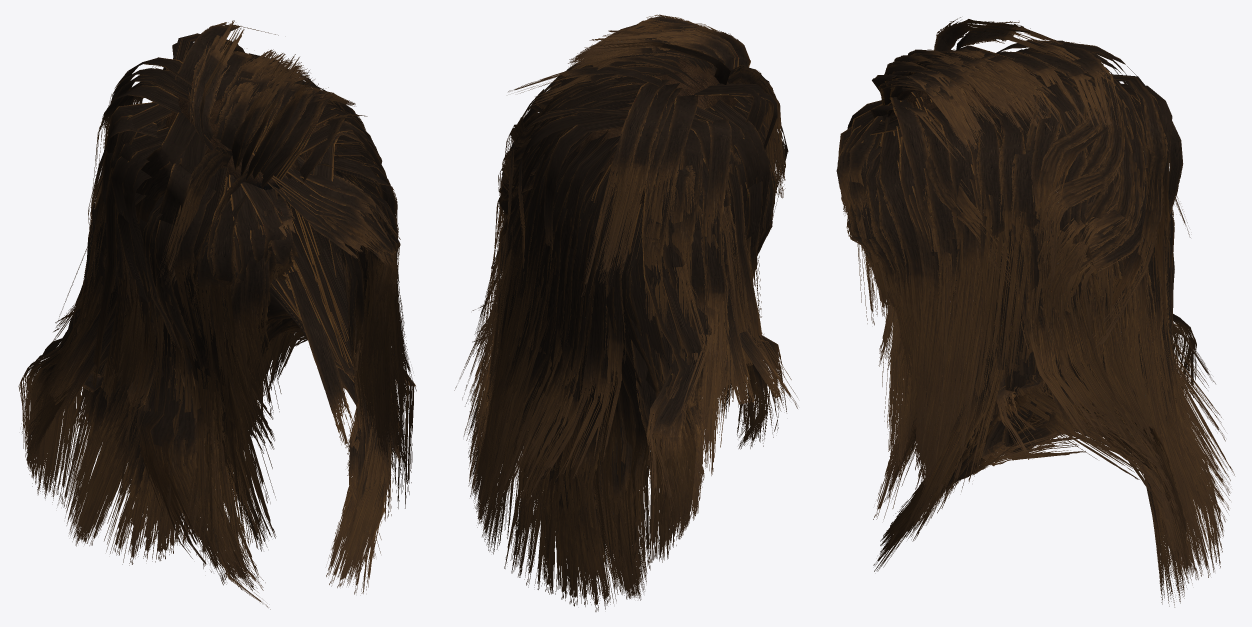
Rendered from mh_o4saken_long01.glb.
3 views of the same model, side by side, from view 1: azimuth 30°, elevation 25°; view 2: azimuth 150°, elevation 25°; view 3: azimuth 270°, elevation 25° (orthographic). The views are drawn at different scales.
Parts seen in each view (by area): view 1: mh_o4saken_long01; view 2: mh_o4saken_long01; view 3: mh_o4saken_long01.
Boxes of the visible parts, left/top/right/bottom form: mh_o4saken_long01: left=18, top=20, right=416, bottom=609; mh_o4saken_long01: left=454, top=14, right=797, bottom=611; mh_o4saken_long01: left=836, top=17, right=1234, bottom=607.
Size of the model in its own units: 0.3441 by 0.5527 by 0.3429.
Materials: 1 (1 with a texture image).
